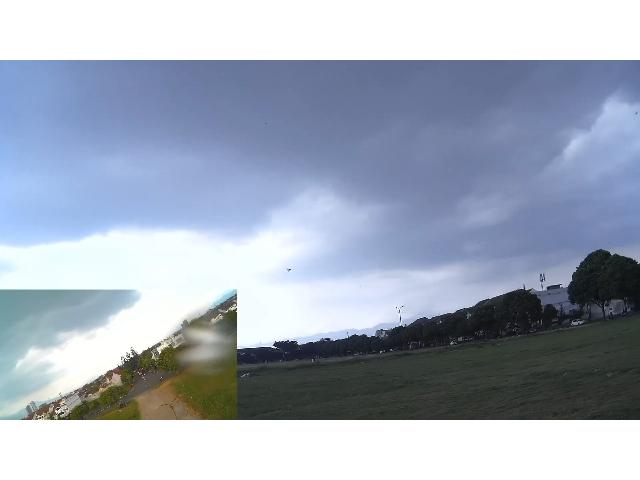Anti-Drone: (282, 266, 302, 278)
